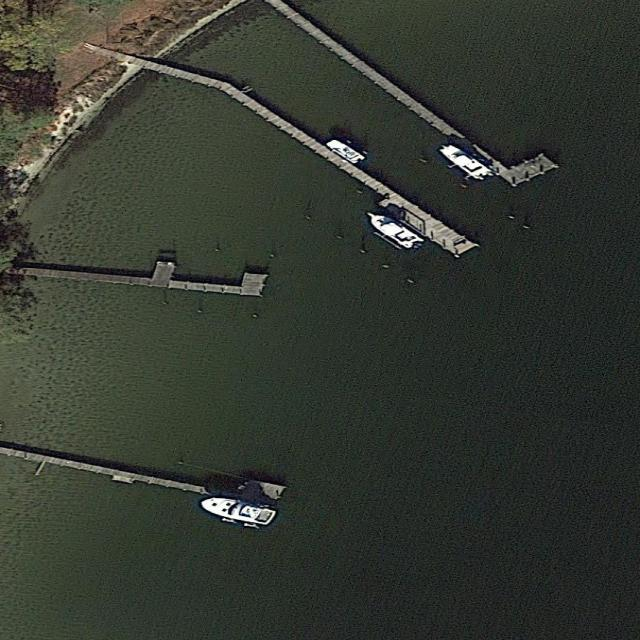ship: (358, 208, 426, 250), (194, 494, 279, 527), (435, 141, 496, 180), (322, 137, 370, 166)
